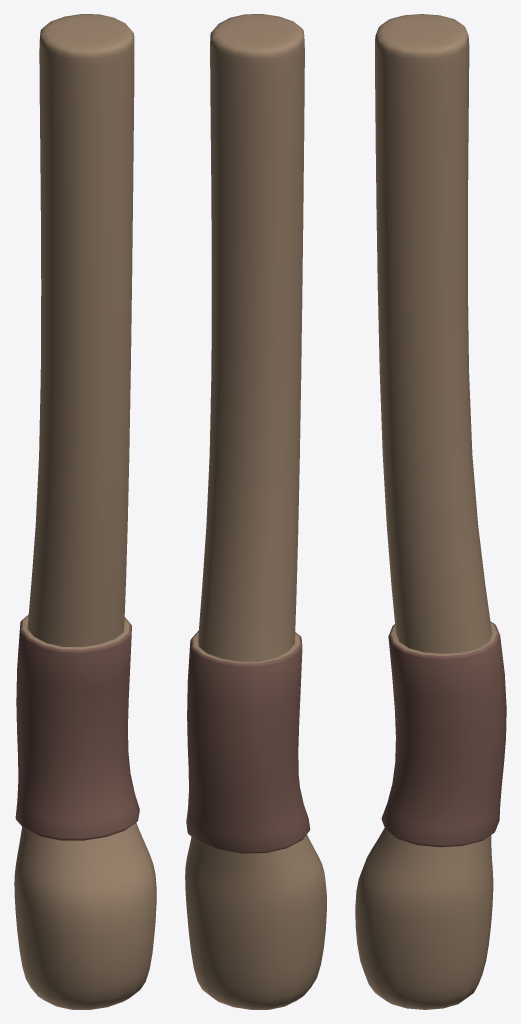
File: Handle_Axe.fbx
The picture shows the model from 3 angles, left to right: view 1: azimuth 30°, elevation 25°; view 2: azimuth 150°, elevation 25°; view 3: azimuth 270°, elevation 25°; orthographic projection.
Visible parts, largest first — view 1: Handle_Axe; view 2: Handle_Axe; view 3: Handle_Axe.
Part boxes in pixels (box(x1,y1,x2,y2)): Handle_Axe: box(14, 14, 156, 1009); Handle_Axe: box(185, 14, 326, 1009); Handle_Axe: box(355, 14, 506, 1009).
Size of the model in its own units: 95.04 by 715 by 101.
